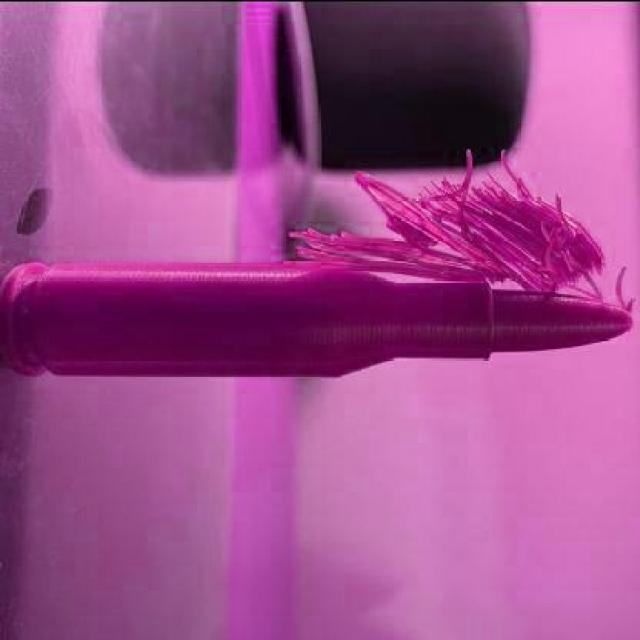spaghetti: (291, 150, 631, 304)
